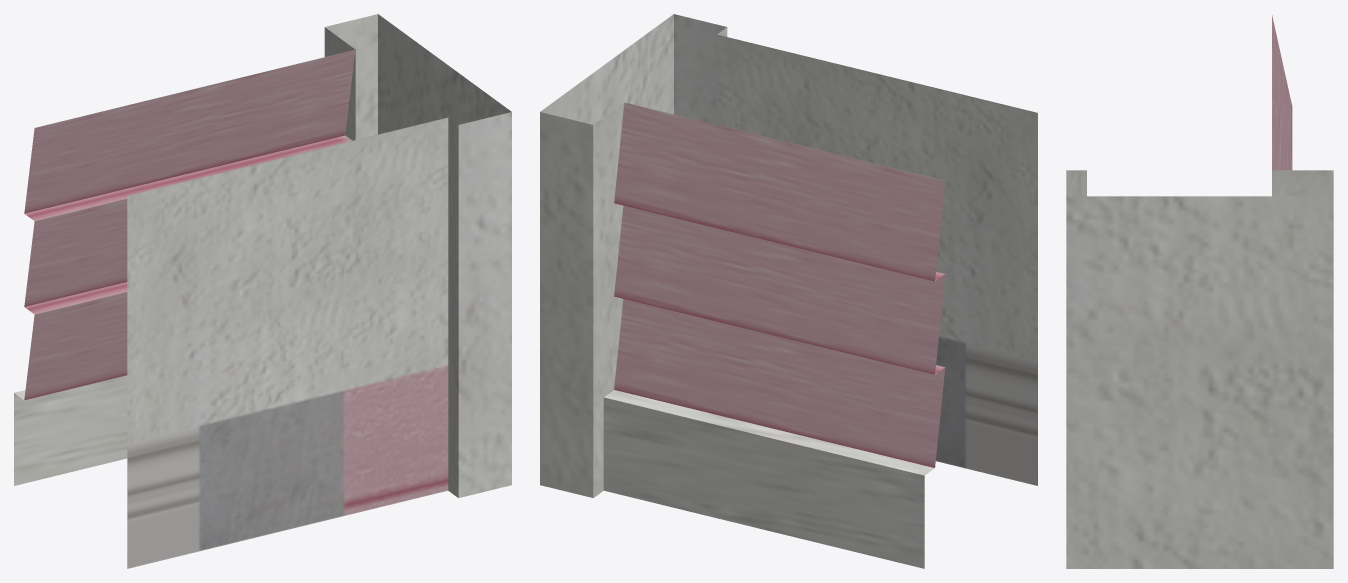
The model's file is extWallBase_E.obj.
3 views of the same model, side by side, from view 1: azimuth 30°, elevation 25°; view 2: azimuth 150°, elevation 25°; view 3: azimuth 270°, elevation 25° (orthographic).
Size of the model in its own units: 2.1 by 2 by 1.3.
